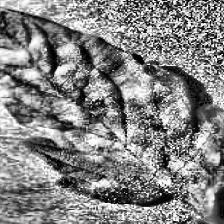leaf mold: (0, 0, 224, 210)
